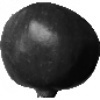faced: (30, 43, 73, 82)
